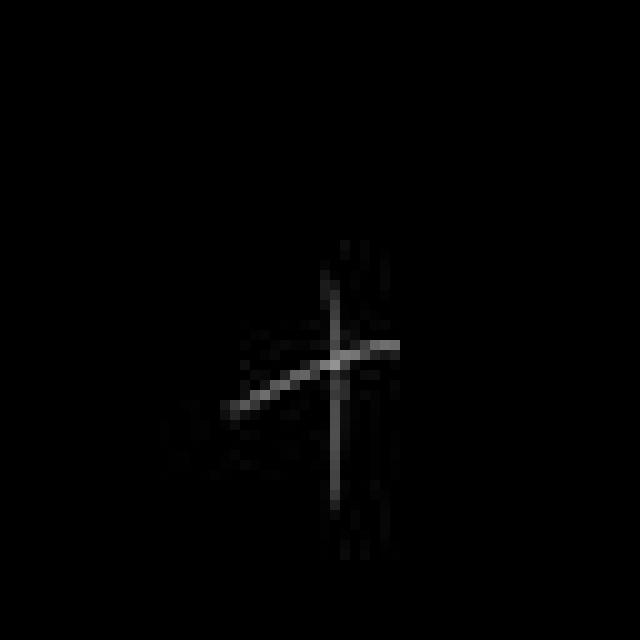10 -ten-: (214, 273, 412, 507)
